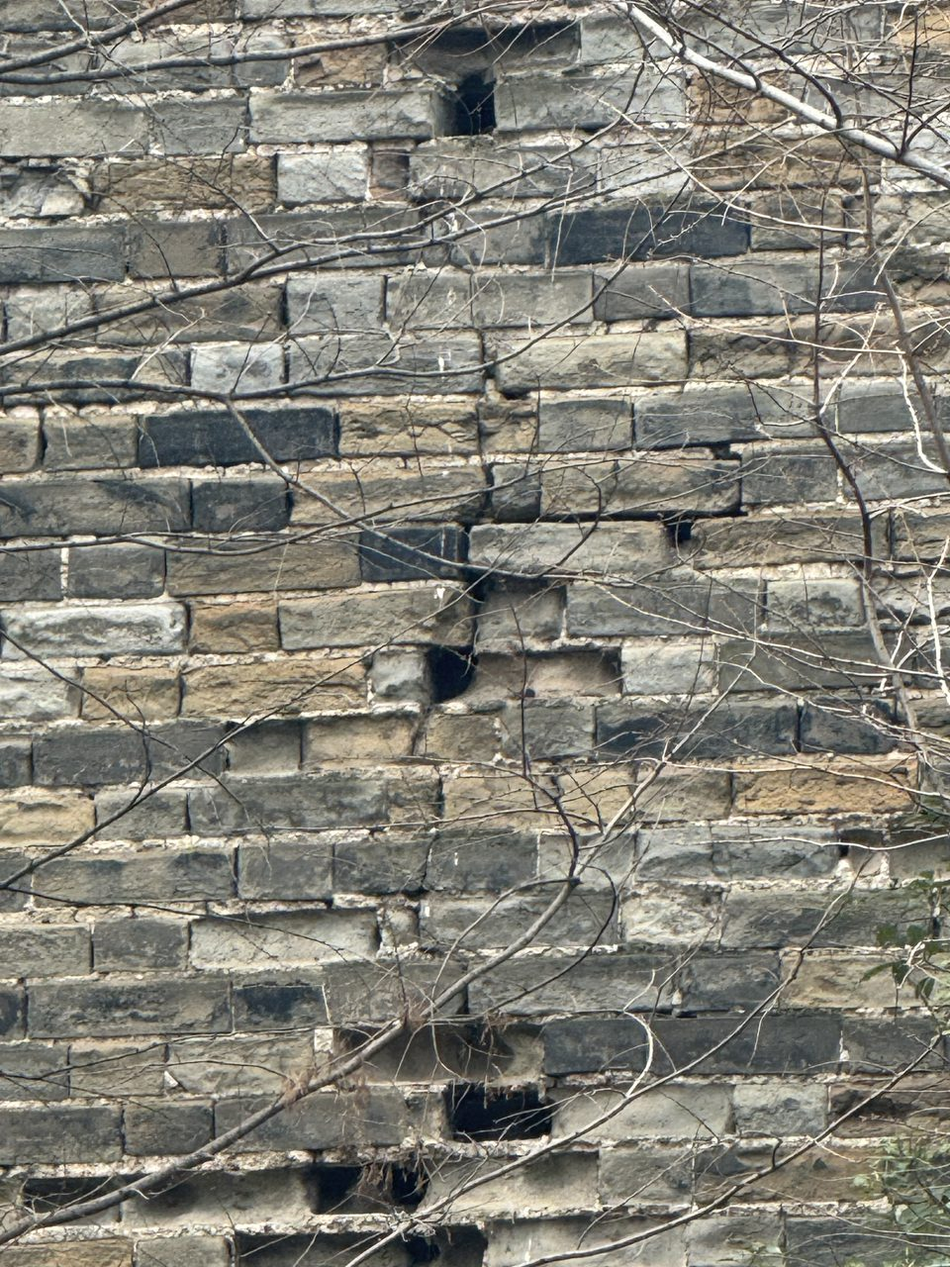crack: (448, 298, 519, 652)
